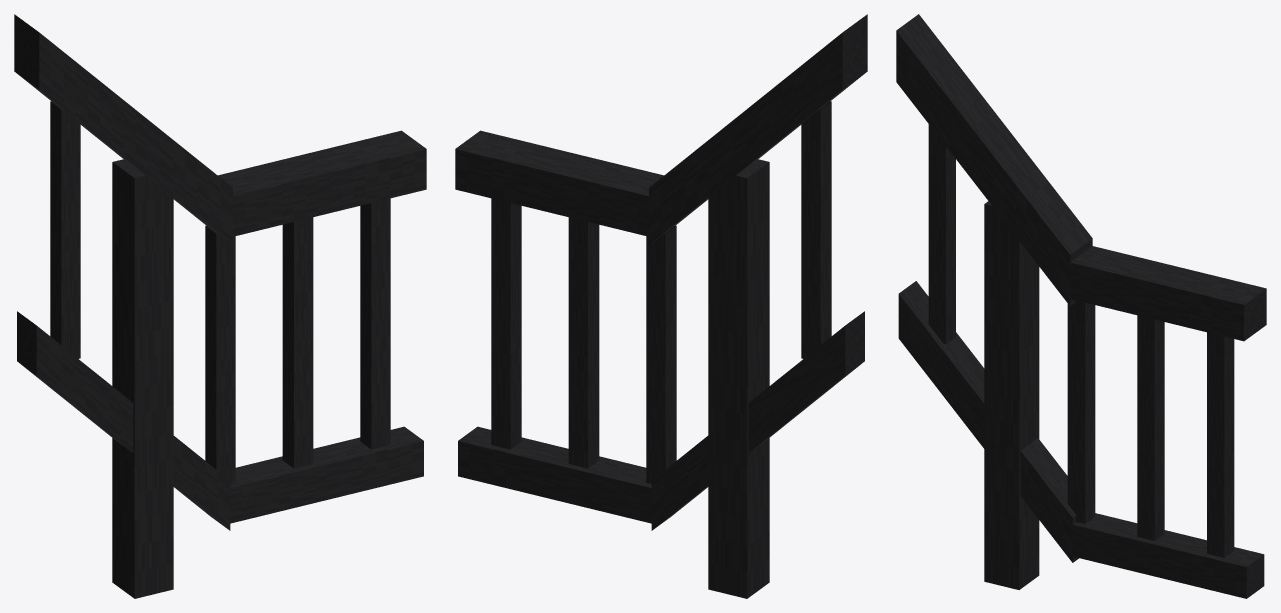
Rendered from foot_neg.obj.
The picture shows the model from 3 angles, left to right: view 1: azimuth 30°, elevation 25°; view 2: azimuth 150°, elevation 25°; view 3: azimuth 330°, elevation 25°; orthographic projection. The views are drawn at different scales.
Parts seen in each view (by area): view 1: railing_picket_black_foot_neg; view 2: railing_picket_black_foot_neg; view 3: railing_picket_black_foot_neg.
Part boxes in pixels (<box>): railing_picket_black_foot_neg: <box>14,14,426,598</box>; railing_picket_black_foot_neg: <box>455,14,867,598</box>; railing_picket_black_foot_neg: <box>896,14,1266,598</box>.
Size of the model in its own units: 1 by 1.46 by 0.1125.
